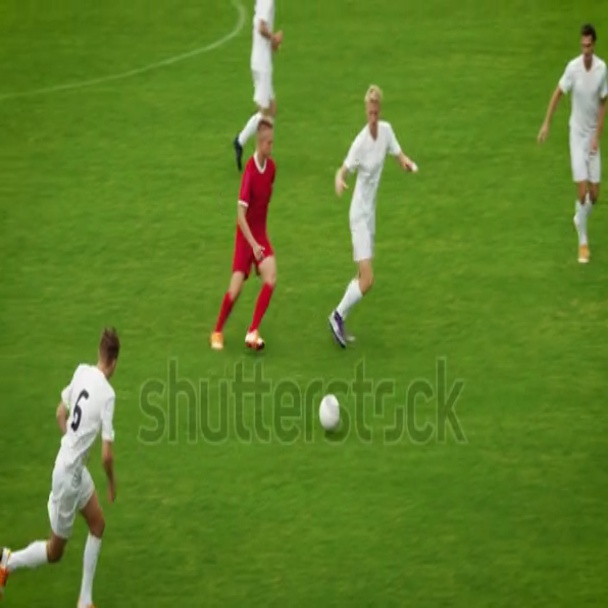ball: (314, 389, 345, 437)
